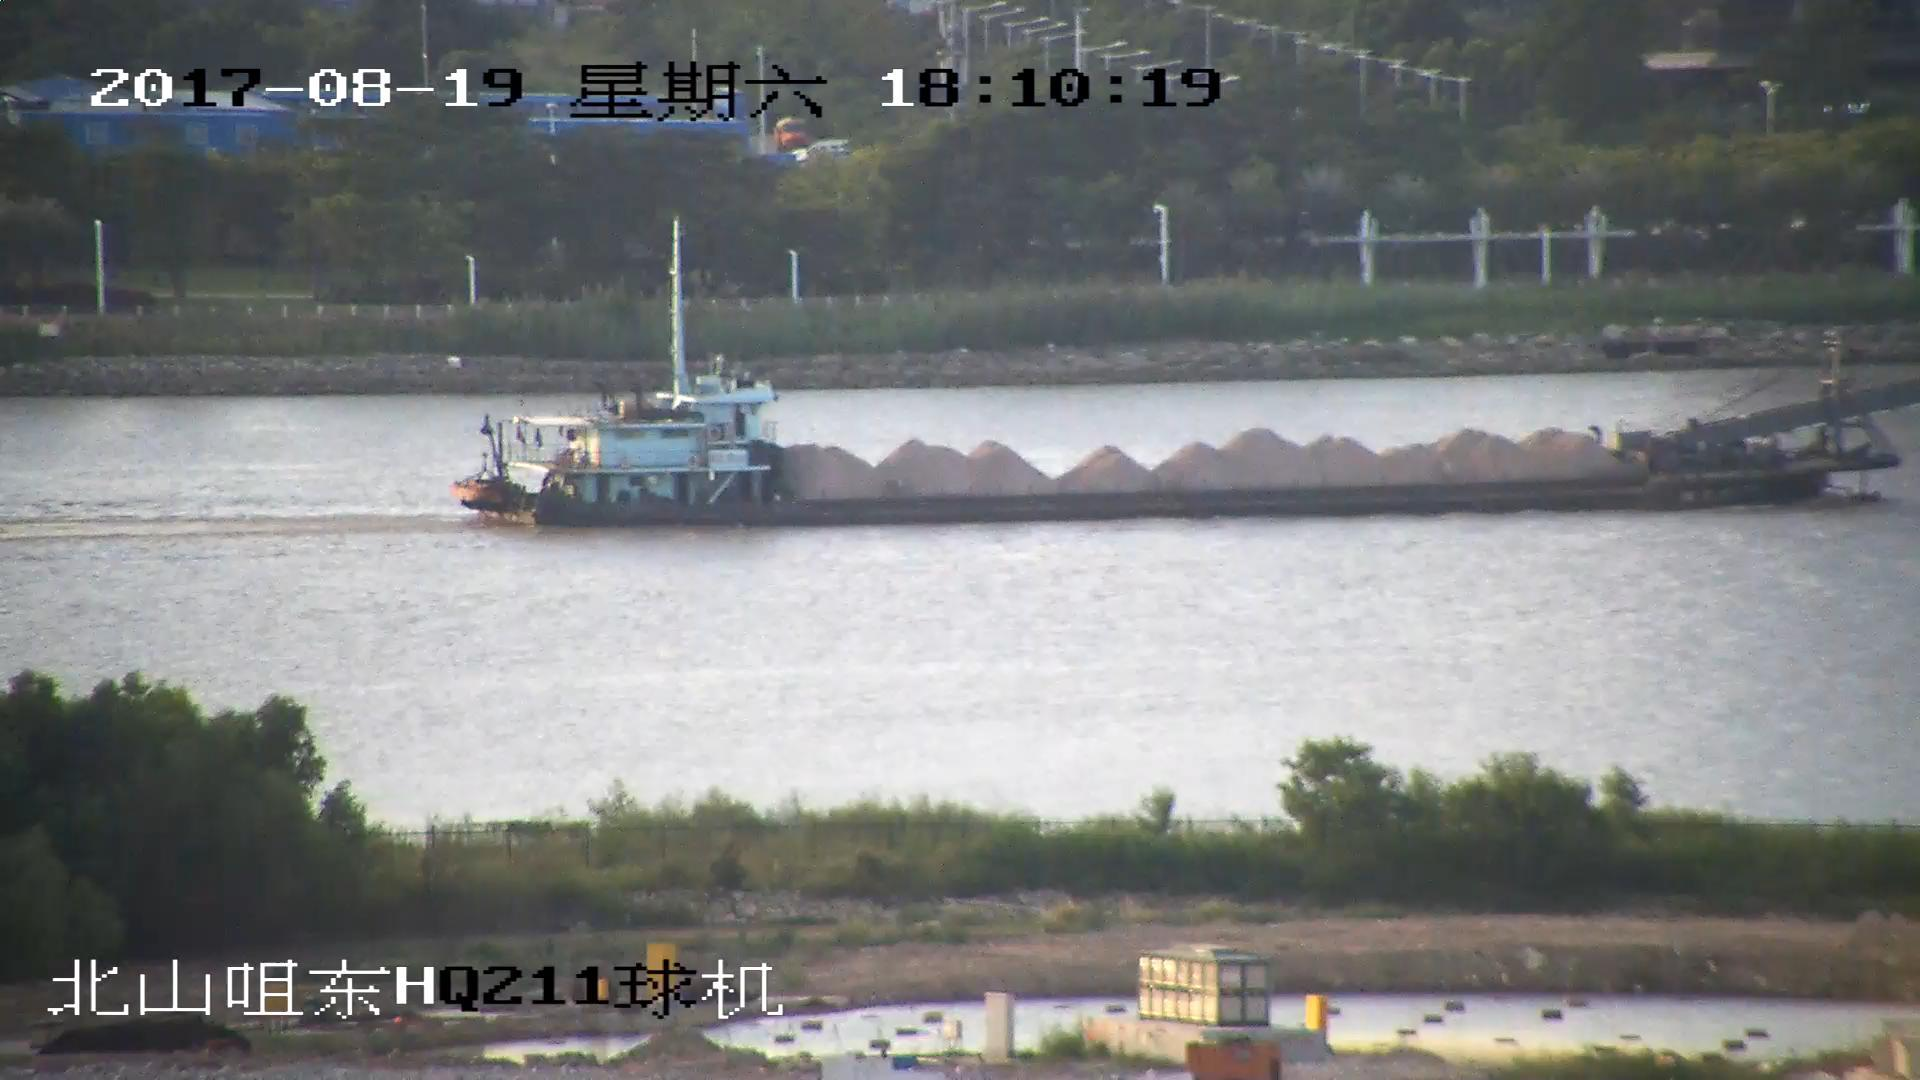Ship: (450, 216, 1920, 530)
